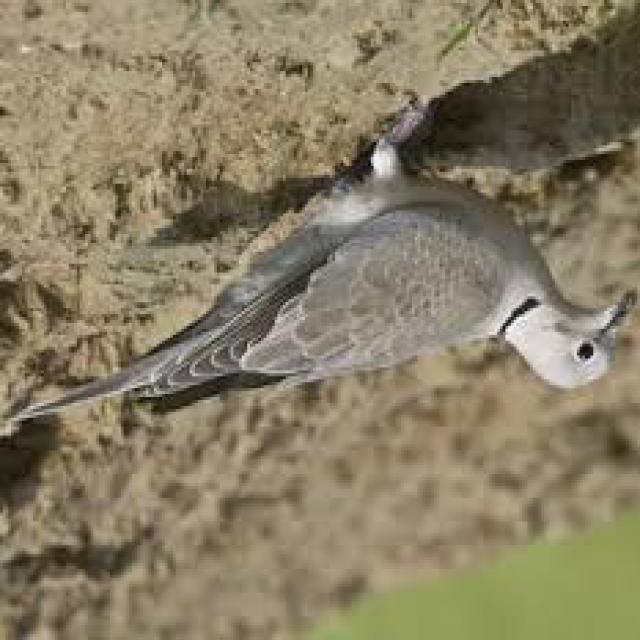pigeon: (4, 114, 640, 524)
